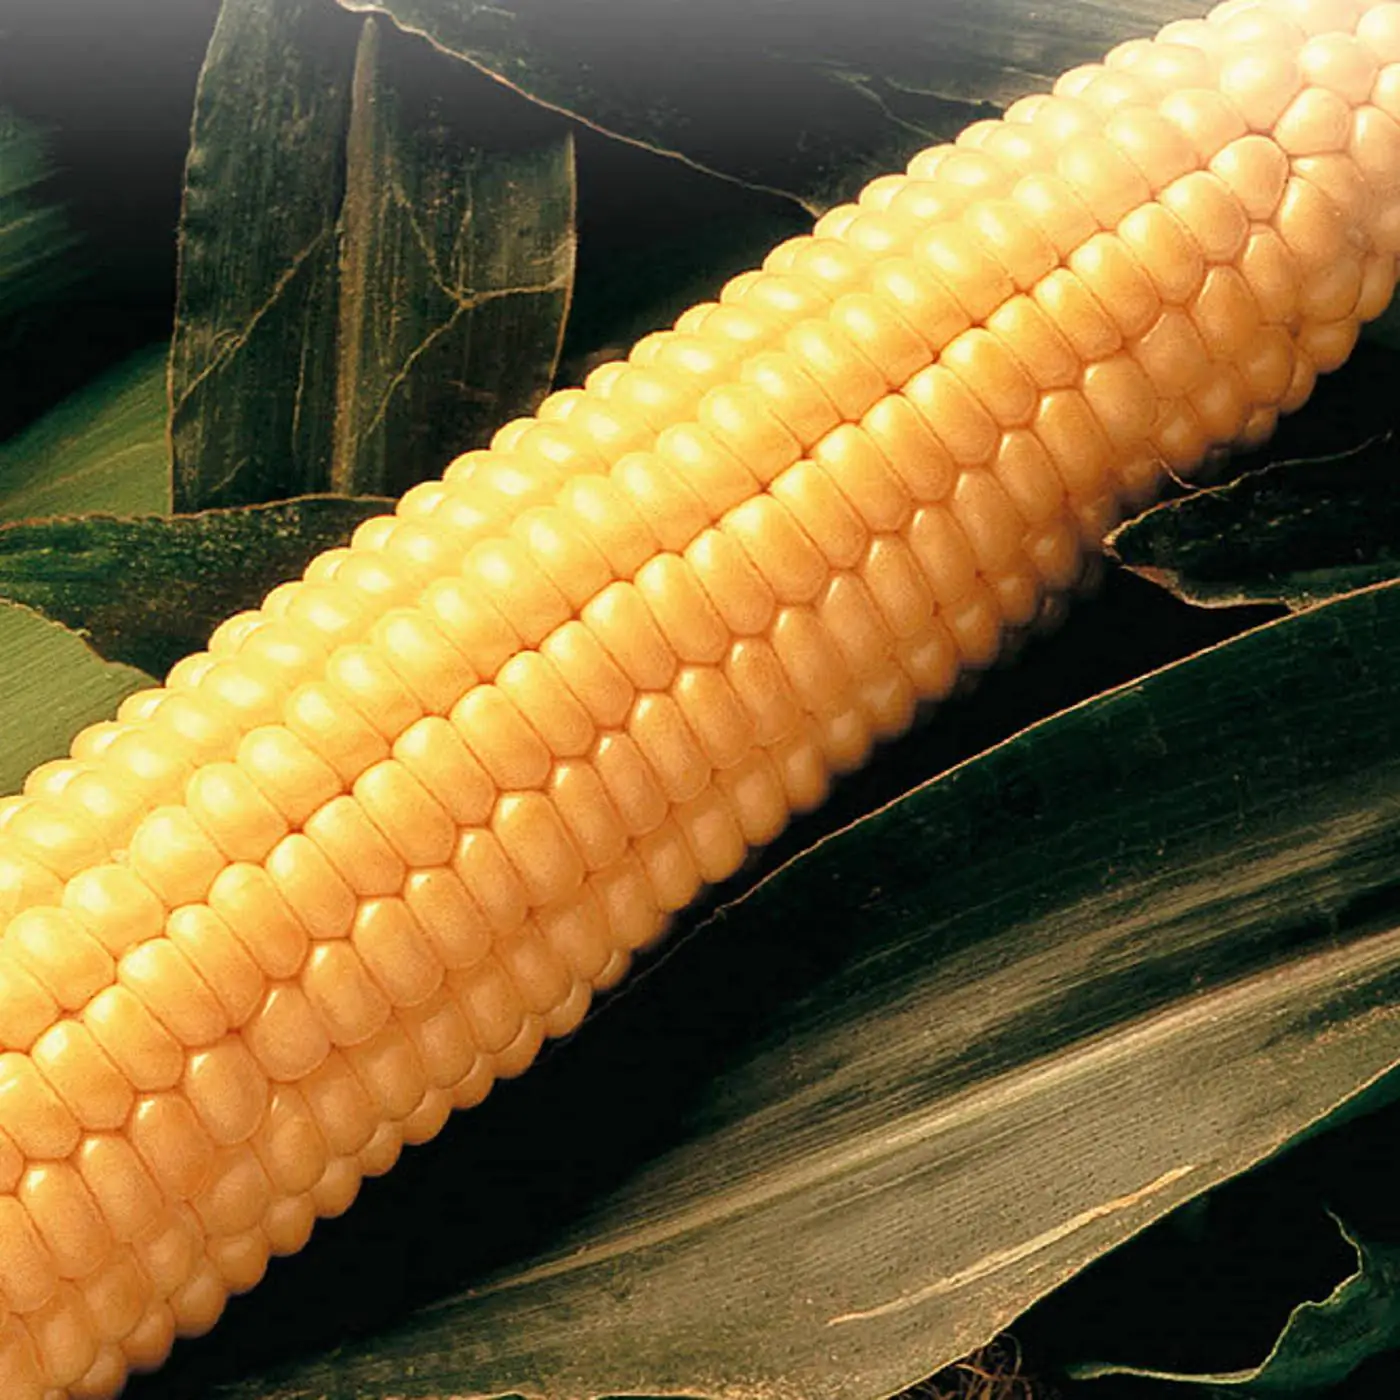corn: (21, 37, 1372, 1237)
